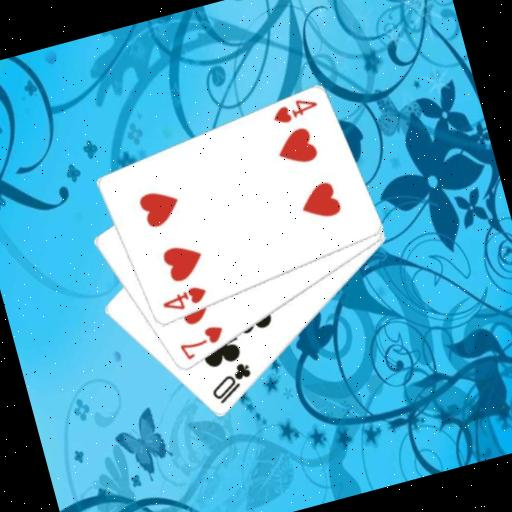10C: (202, 358, 258, 408)
4H: (266, 92, 321, 128), (156, 281, 210, 317)
7H: (172, 320, 230, 364)
